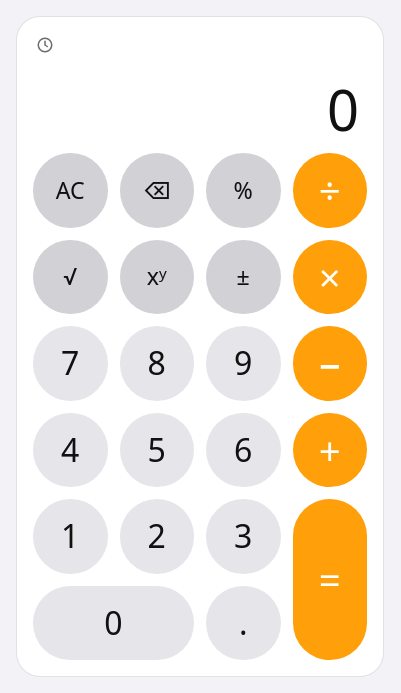
Test: Calculator › computes 12 + 3 = 15 through the API
The image size is (401, 693).
Click the button "1": (70, 536) 33,499 -> 108,574
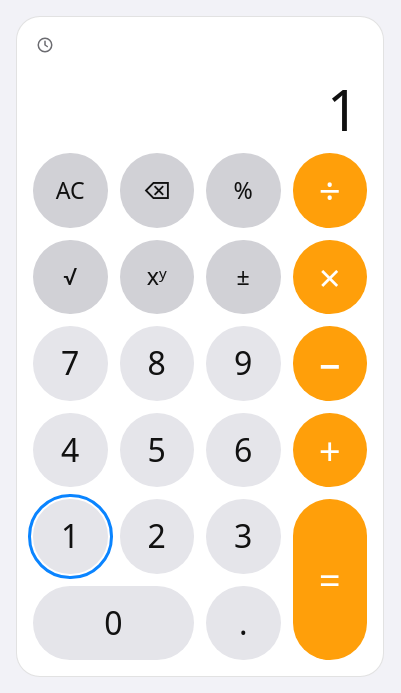
Click the button "2": (157, 536) 120,499 -> 194,574
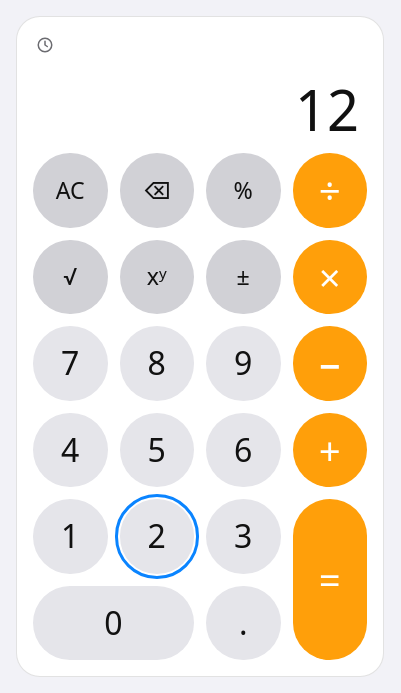
Click the button named "Add": (330, 450) 292,412 -> 367,487
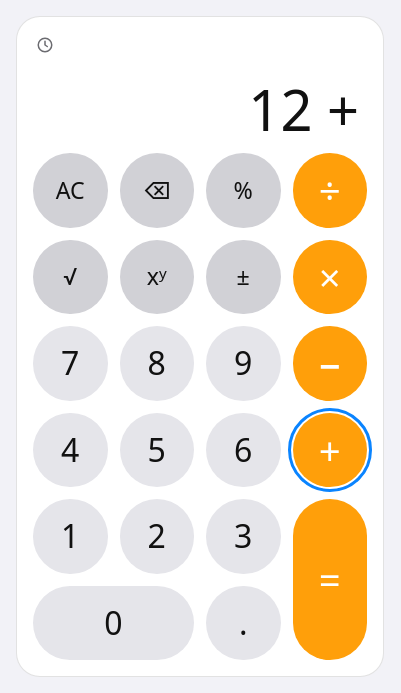
Click the button "3": (243, 536) 206,499 -> 280,574
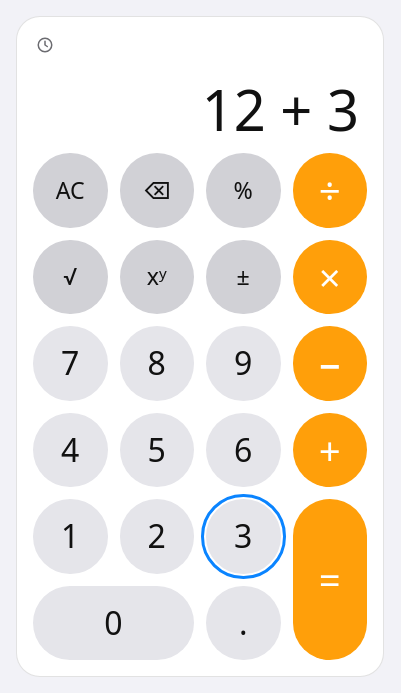
Now the message reads "12 + 3", box 202,71 -> 359,147
Click the button named "Equals": (330, 580) 292,499 -> 367,660
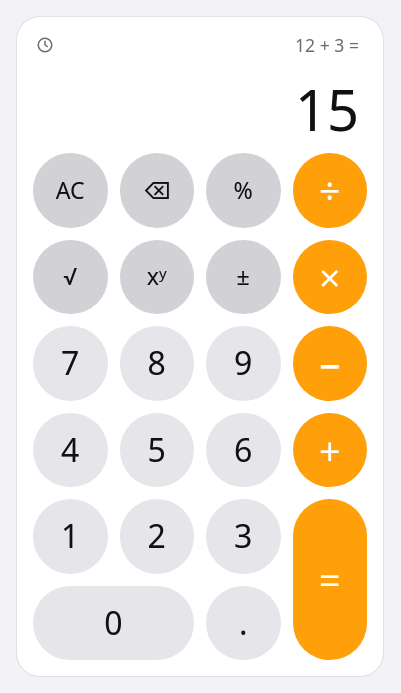
Now the message reads "15", box 295,71 -> 359,147
